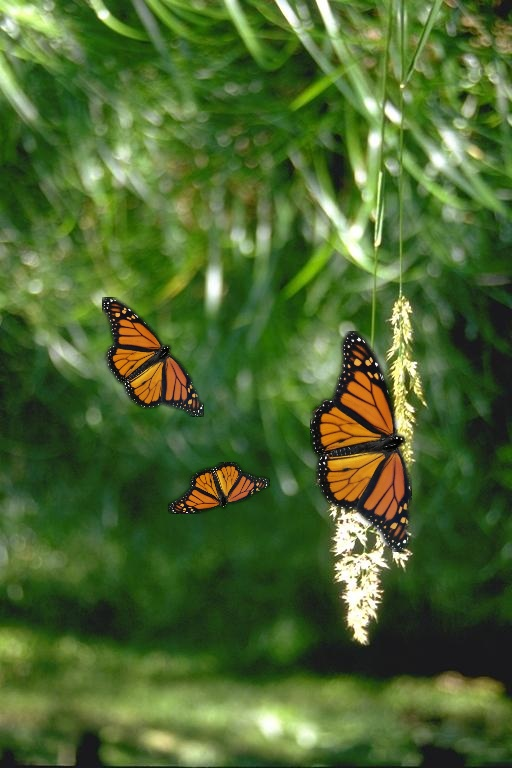danaus_plexippus: (310, 331, 412, 552), (102, 297, 204, 417), (168, 462, 270, 514)
